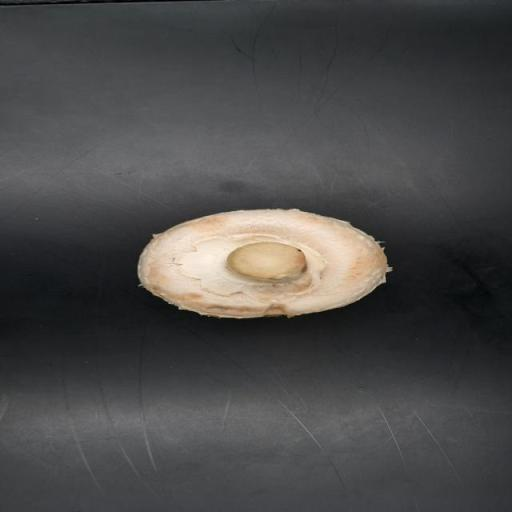Button Mushroom: (139, 209, 391, 322)
